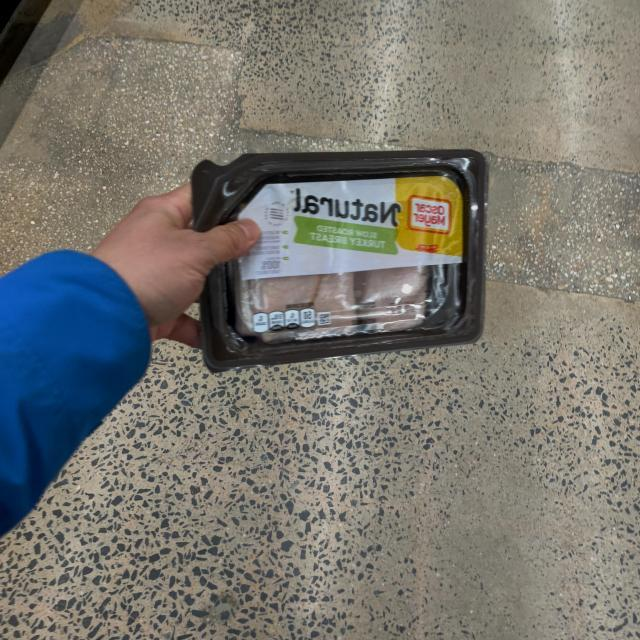Meat: (186, 153, 485, 369)
